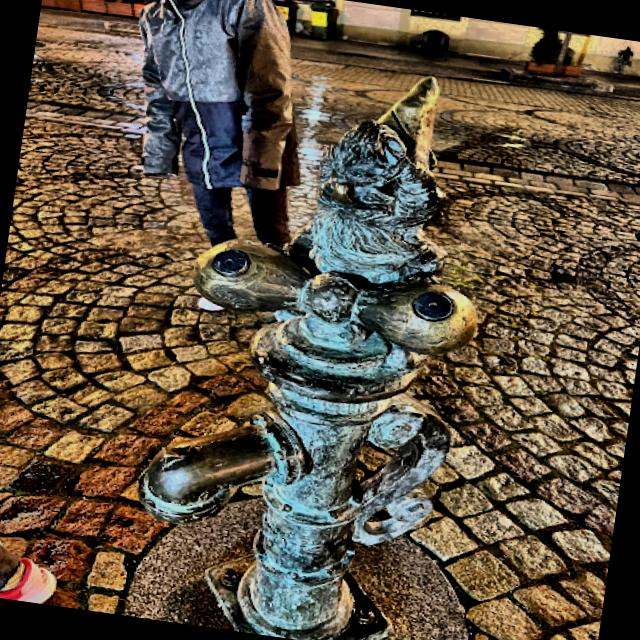Orzezwiacz: (137, 77, 479, 640)
